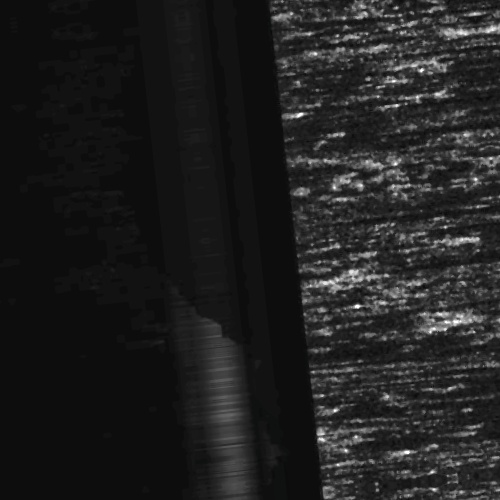object: (383, 254, 500, 265)
shadow: (295, 254, 456, 265), (404, 365, 500, 374), (420, 144, 500, 153), (424, 397, 500, 402), (431, 68, 500, 73), (445, 321, 500, 326)
